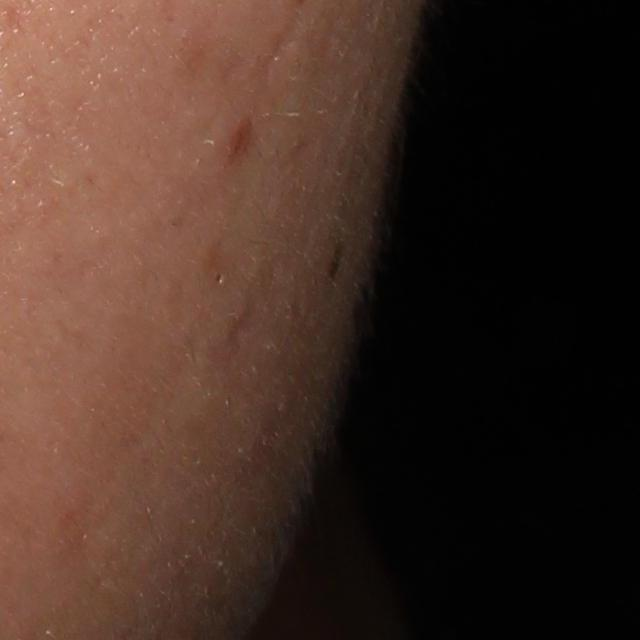nevus: (323, 237, 346, 279)
papule: (225, 115, 256, 164)
